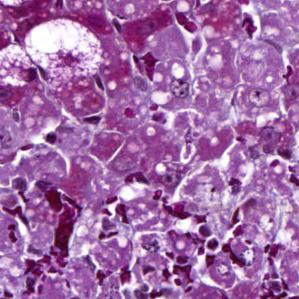ballooning: (24, 18, 105, 79), (0, 43, 39, 90)
